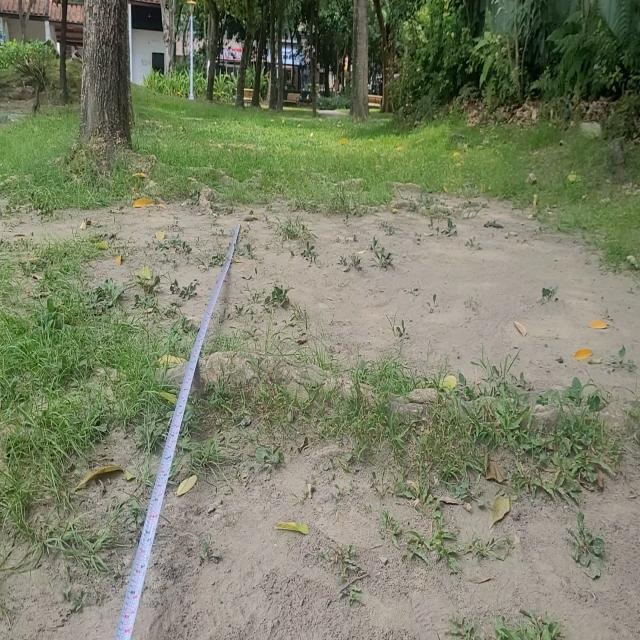Tree: (60, 1, 161, 182), (348, 1, 375, 128), (236, 1, 252, 114), (205, 1, 221, 110), (268, 1, 279, 114), (310, 1, 318, 124), (254, 1, 262, 110), (278, 1, 284, 115)
